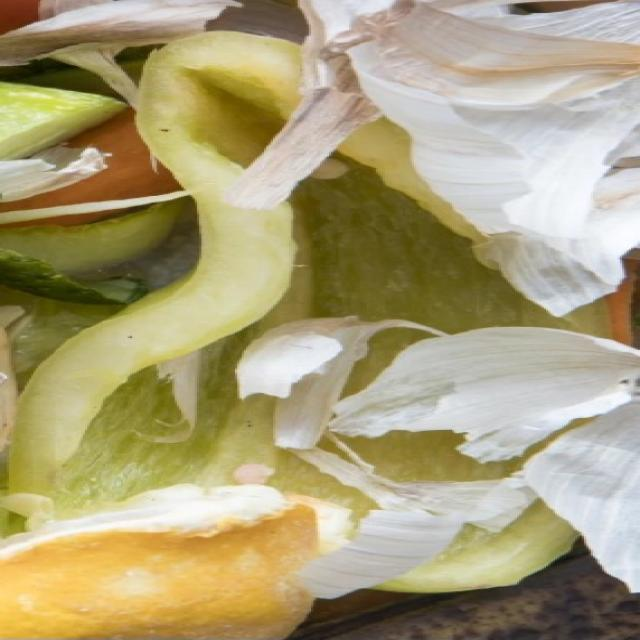food waste: (17, 0, 640, 627)
